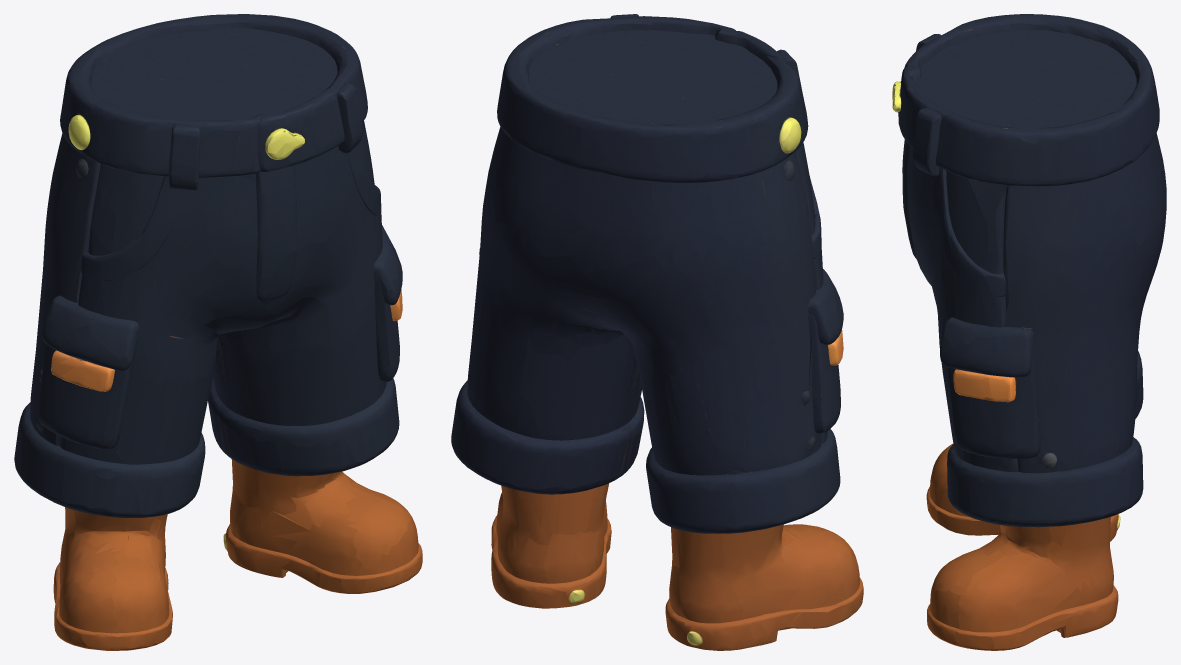
Rendered from bottom_work_shorts_01.glb.
3 views of the same model, side by side, from view 1: azimuth 30°, elevation 25°; view 2: azimuth 150°, elevation 25°; view 3: azimuth 270°, elevation 25° (orthographic). The views are drawn at different scales.
Bounding box in the file's own units: 1.36 × 1.9 × 0.9468.
Materials: 1 (1 with a texture image).
